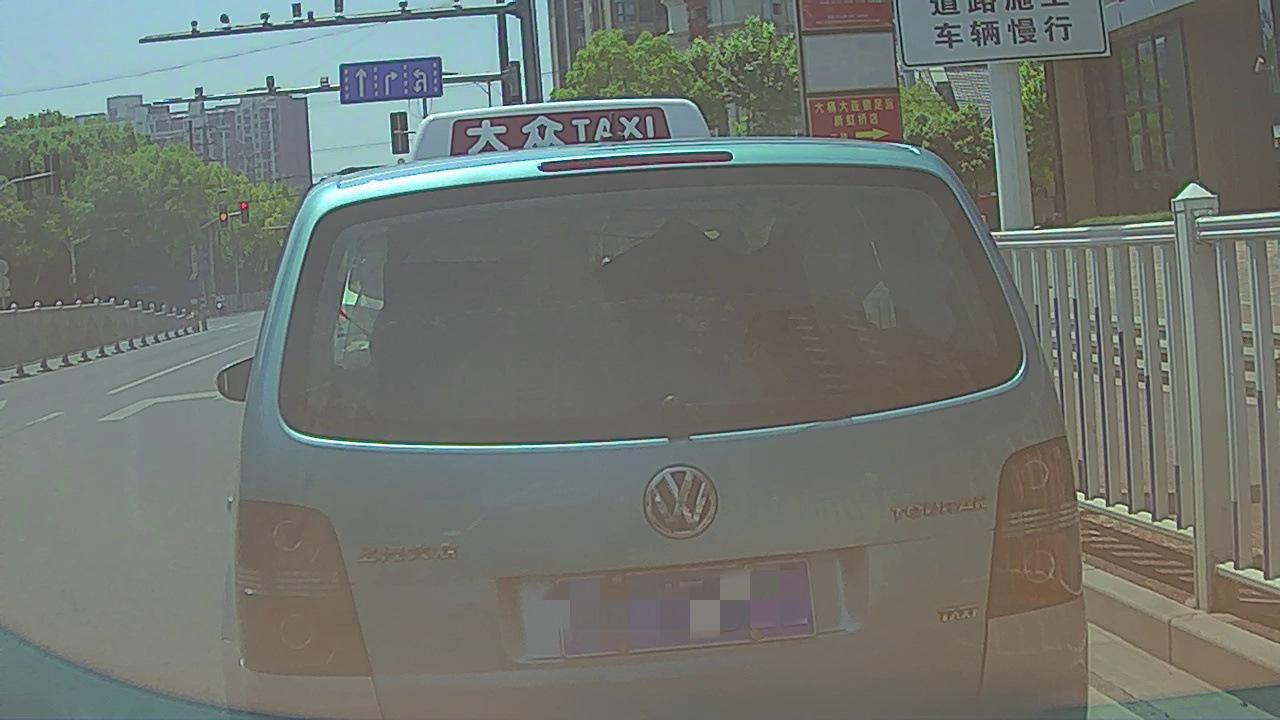traffic_light: (219, 205, 228, 227), (239, 202, 247, 224)
